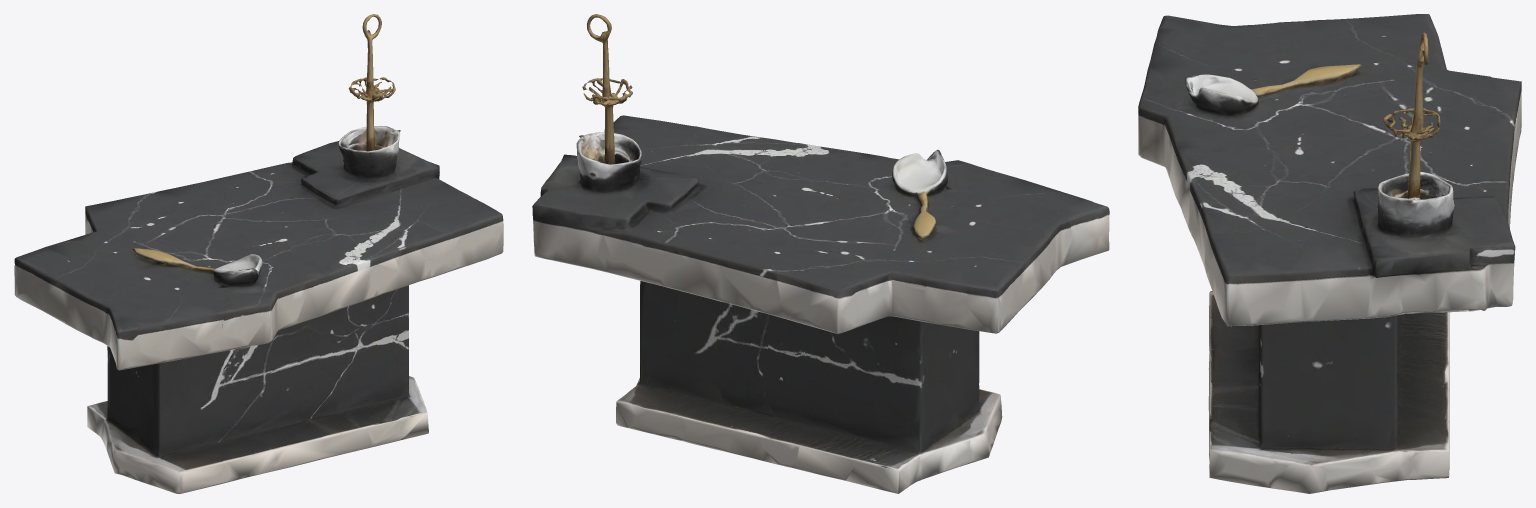
Rendered from cold-stoned-prep-station.glb.
3 renders of one model, left to right at view 1: azimuth 30°, elevation 25°; view 2: azimuth 150°, elevation 25°; view 3: azimuth 270°, elevation 25°, orthographic. The views are drawn at different scales.
Size of the model in its own units: 2 by 1.64 by 1.23.
1 material, 1 textured.
